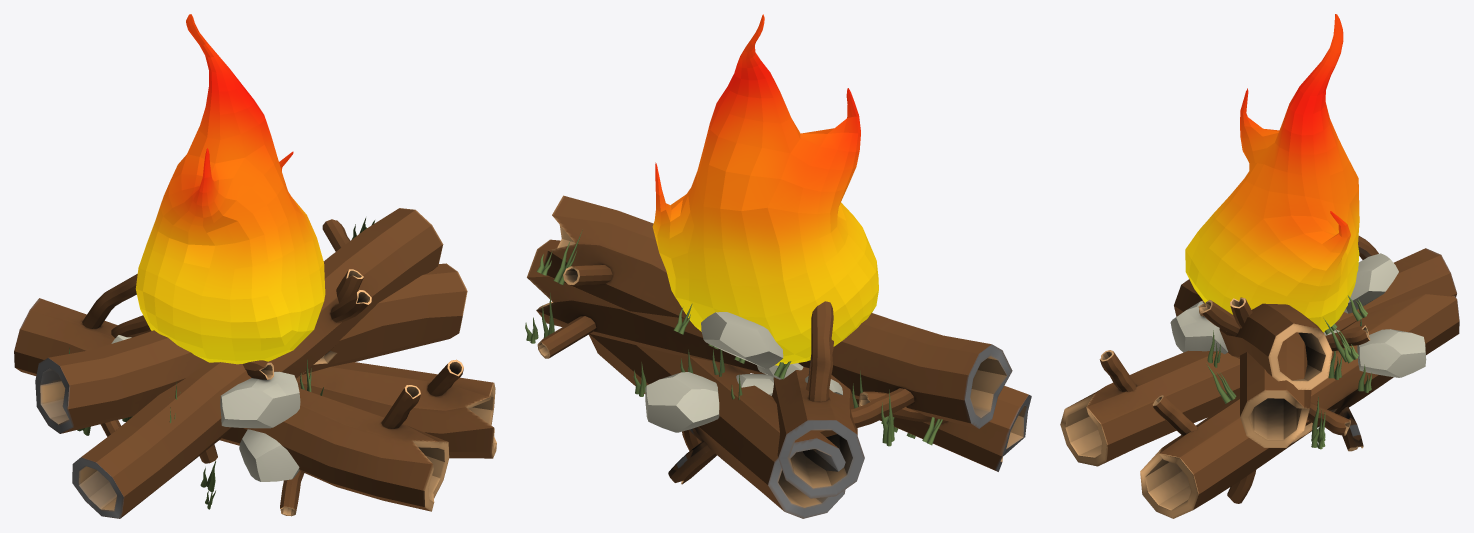
File: campfire.gltf
The picture shows the model from 3 angles, left to right: view 1: azimuth 30°, elevation 25°; view 2: azimuth 150°, elevation 25°; view 3: azimuth 270°, elevation 25°; orthographic projection. The views are drawn at different scales.
Parts seen in each view (by area): view 1: fire3:Group20972, pCylinder9_lambert1_0.001, pCylinder9_lambert1_0.002, pCylinder9, pCylinder9_lambert1_0.003, pPlatonic9, pPlatonic9_lambert1_0.001, pCone25_lambert1_0.001; view 2: fire3:Group20972, pCylinder9, pCylinder9_lambert1_0.001, pCylinder9_lambert1_0.003, pCylinder9_lambert1_0.002, pPlatonic9, pPlatonic9_lambert1_0.001, pCone25, pCone25_lambert1_0.001; view 3: fire3:Group20972, pCylinder9_lambert1_0.003, pCylinder9_lambert1_0.002, pCylinder9, pCylinder9_lambert1_0.001, pPlatonic9, pPlatonic9_lambert1_0.001, pCone25, pCone25_lambert1_0.001.
Boxes of the visible parts, x1,y1,x2,y2 form: fire3:Group20972: (135,14,325,364); pCylinder9_lambert1_0.001: (72,208,443,518); pCylinder9_lambert1_0.002: (14,274,449,516); pCylinder9: (35,263,467,433); pCylinder9_lambert1_0.003: (111,315,496,458); pPlatonic9: (220,371,300,428); pPlatonic9_lambert1_0.001: (111,335,299,481); pCone25_lambert1_0.001: (77,218,374,509); fire3:Group20972: (652,14,878,365); pCylinder9: (527,239,1012,437); pCylinder9_lambert1_0.001: (544,195,1031,471); pCylinder9_lambert1_0.003: (588,334,845,518); pCylinder9_lambert1_0.002: (772,301,864,498); pPlatonic9: (645,372,773,432); pPlatonic9_lambert1_0.001: (701,312,842,395); pCone25: (525,293,894,446); pCone25_lambert1_0.001: (536,230,942,445); fire3:Group20972: (1185,14,1359,332); pCylinder9_lambert1_0.003: (1140,294,1459,518); pCylinder9_lambert1_0.002: (1060,236,1456,466); pCylinder9: (1198,297,1350,447); pCylinder9_lambert1_0.001: (1174,279,1370,389); pPlatonic9: (1170,301,1426,377); pPlatonic9_lambert1_0.001: (1344,253,1398,313); pCone25: (1207,319,1371,449); pCone25_lambert1_0.001: (1206,295,1367,403).
Bounding box in the file's own units: 1.34 × 1.47 × 1.21.
Materials: 9 (9 with a texture image).
